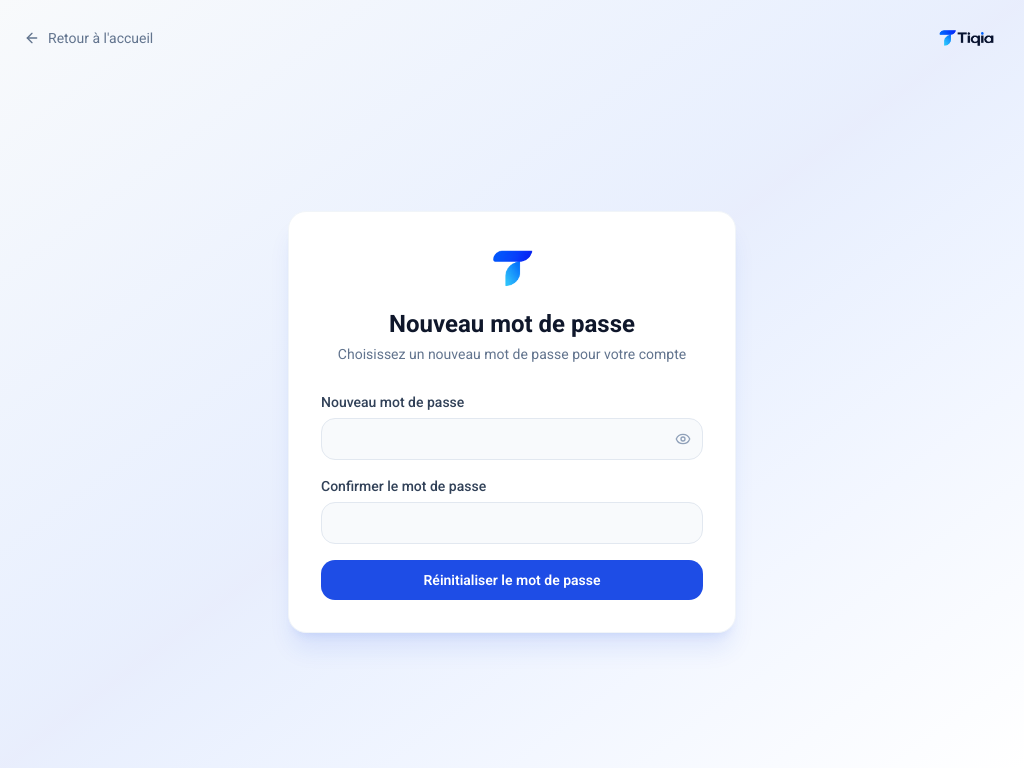
it: ResetPasswordPage › shows a mismatch error and does not submit when passwords differ
In the password field labelled "Nouveau mot de passe": (512, 439) [321,418,703,460], type "password123"
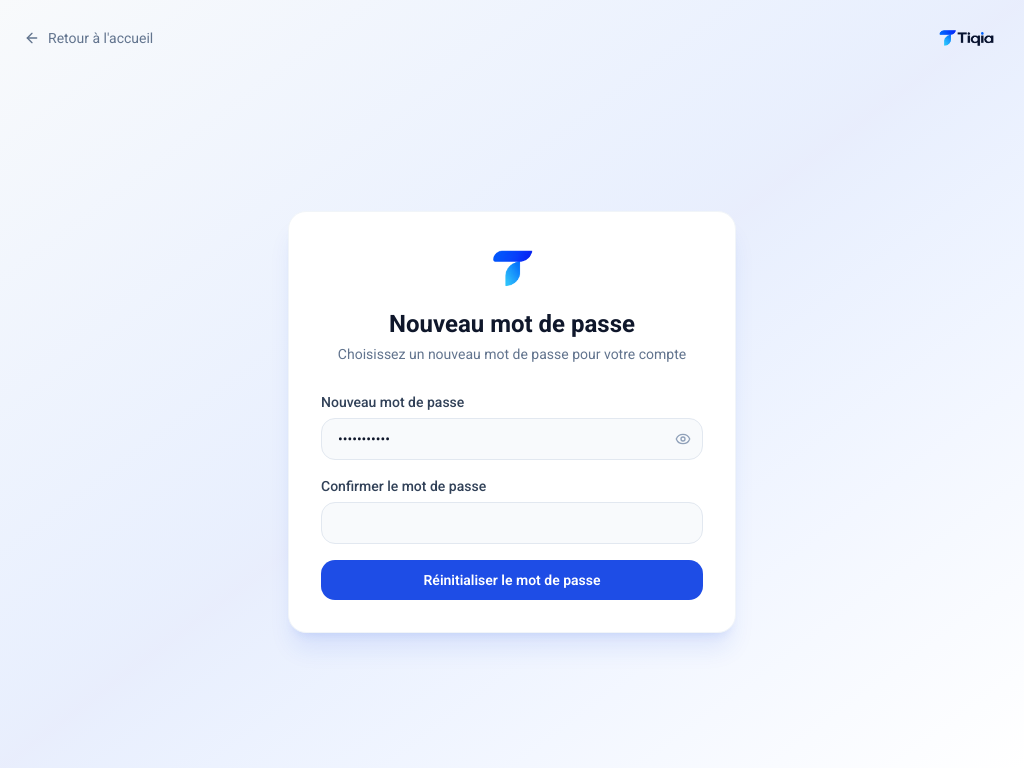
In the password field labelled "Confirmer le mot de passe": (512, 523) [321,502,703,544], type "different456"
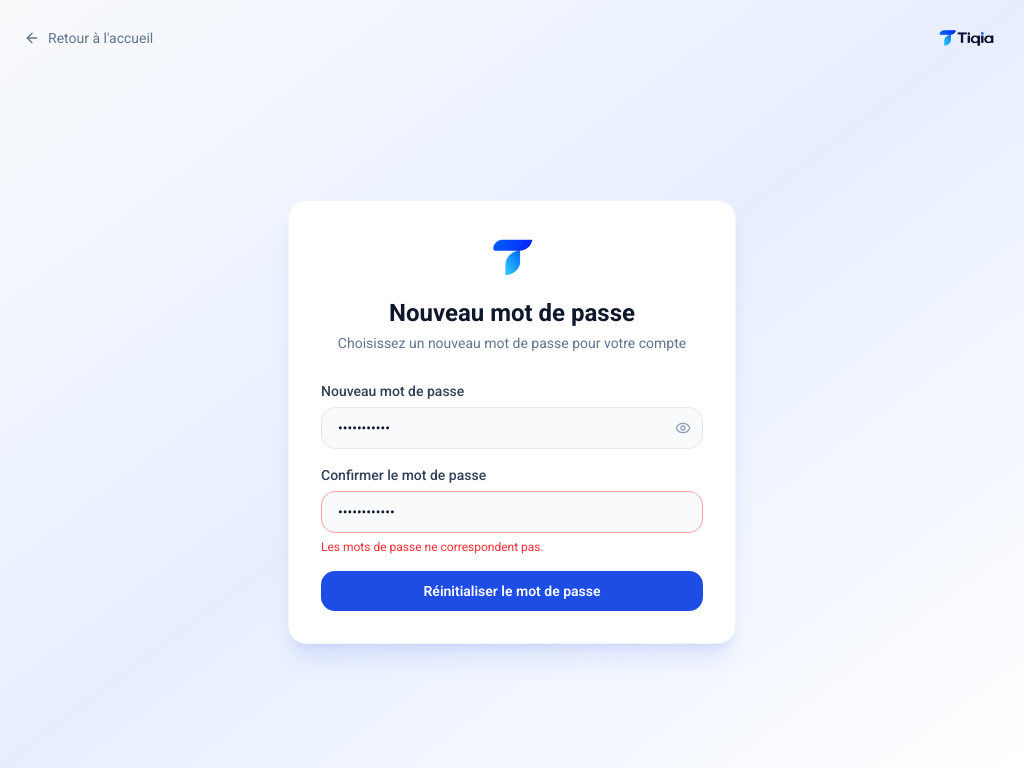
Click the button "Réinitialiser le mot de passe": (512, 591) [321,571,703,611]
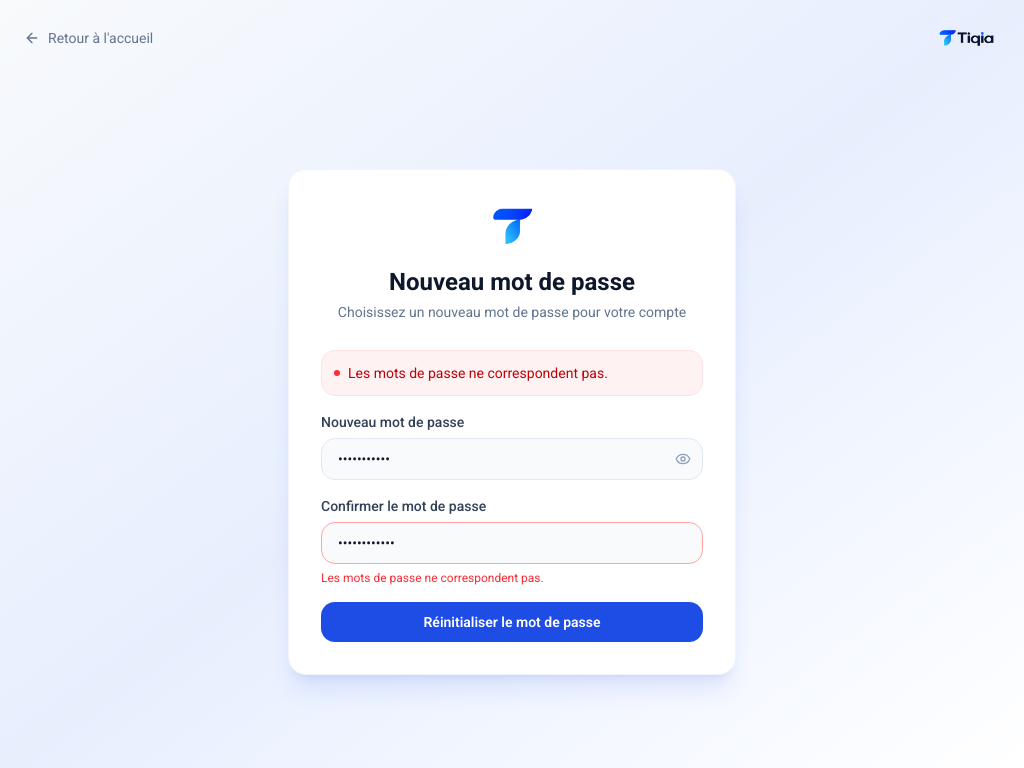
Expected: the text "Les mots de passe ne correspondent pas." is shown, [321,350,703,396]
